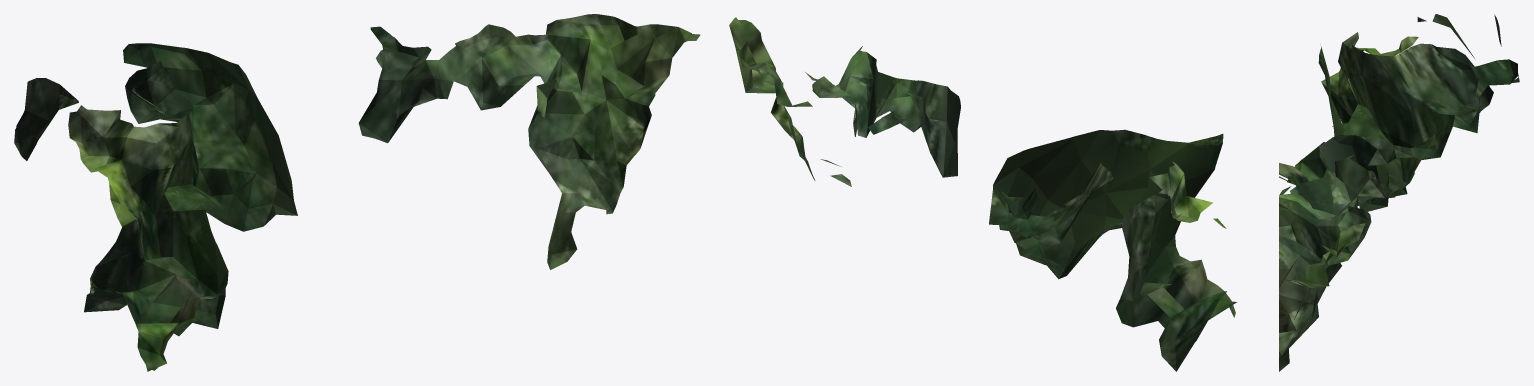
3 views of the same model, side by side, from view 1: azimuth 30°, elevation 25°; view 2: azimuth 150°, elevation 25°; view 3: azimuth 270°, elevation 25° (orthographic). The views are drawn at different scales.
Size of the model in its own units: 21.89 by 7.71 by 9.21.
1 material, 1 textured.
